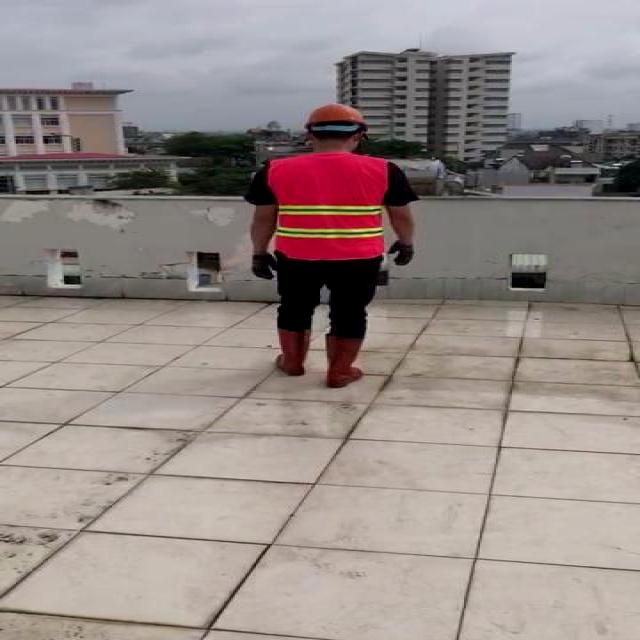boots: (324, 335, 369, 388), (274, 329, 313, 377)
hand_glove: (388, 241, 414, 269), (252, 253, 276, 282)
head_helmet: (304, 104, 368, 128)
person: (245, 103, 418, 396)
vest: (269, 153, 391, 258)
